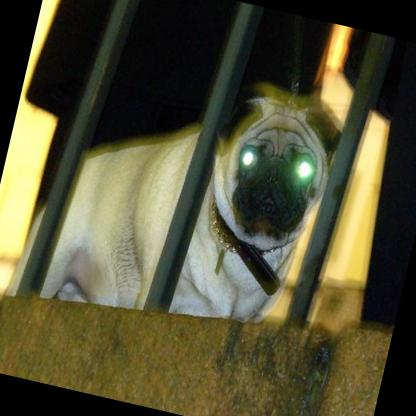pug: (9, 38, 346, 355)
